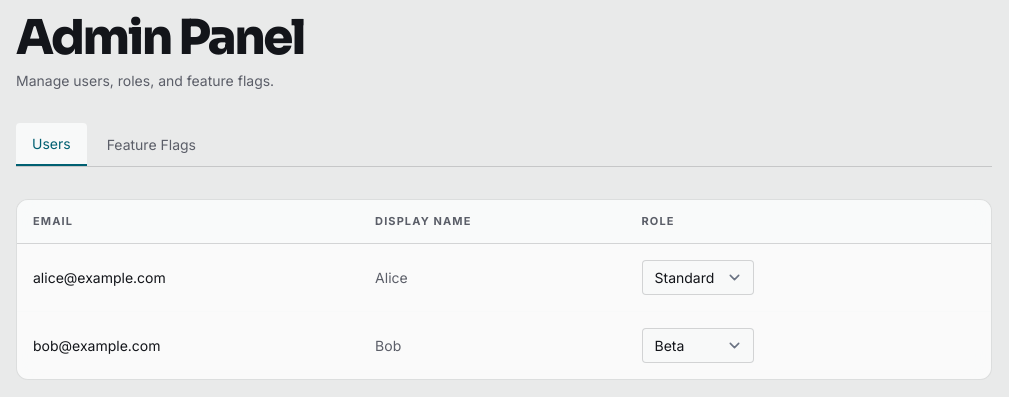
AdminPage › shows a Save button when the role dropdown is changed
Expected: the text "alice@example.com" is shown, [17, 244, 359, 312]
Select "Alpha" in the dropdown named "User role" in the row of "alice@example.com": (698,278) [642, 260, 754, 295]
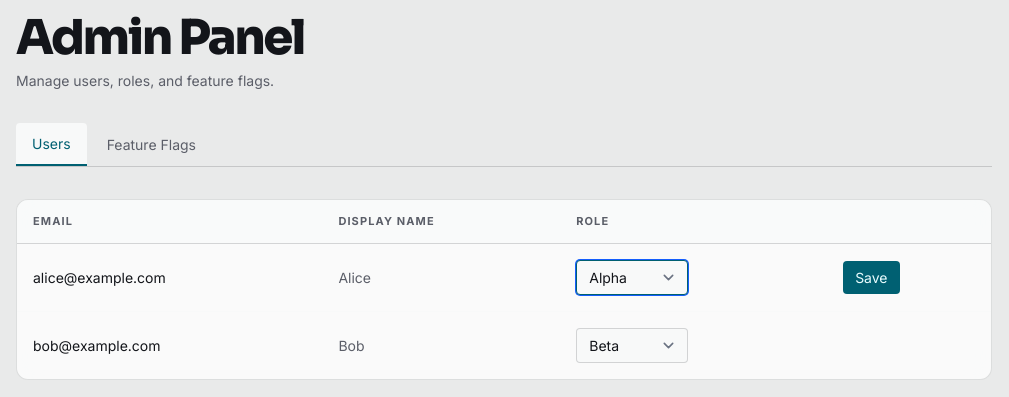
Expected: the button "Save" is shown, [843, 261, 900, 294]
